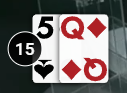5: (31, 13, 57, 41)
q: (57, 13, 88, 43)
